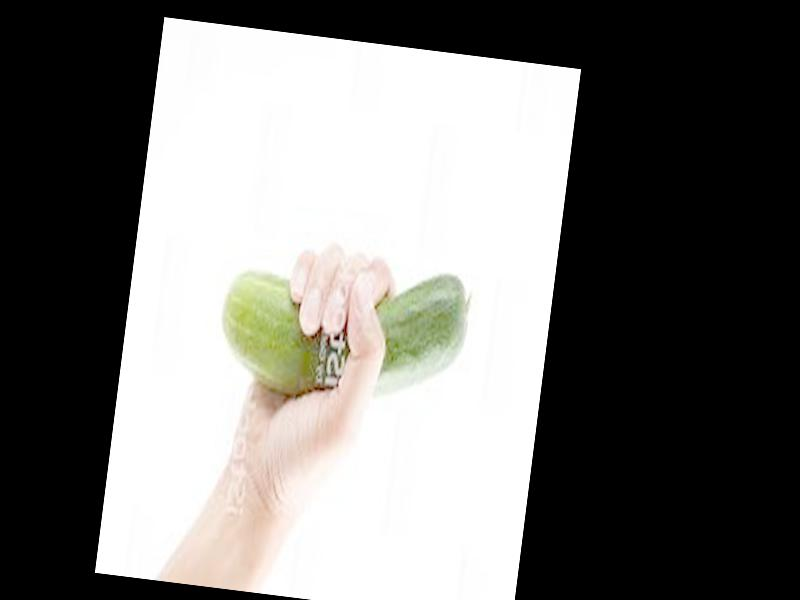Cucumber: (214, 244, 473, 417)
